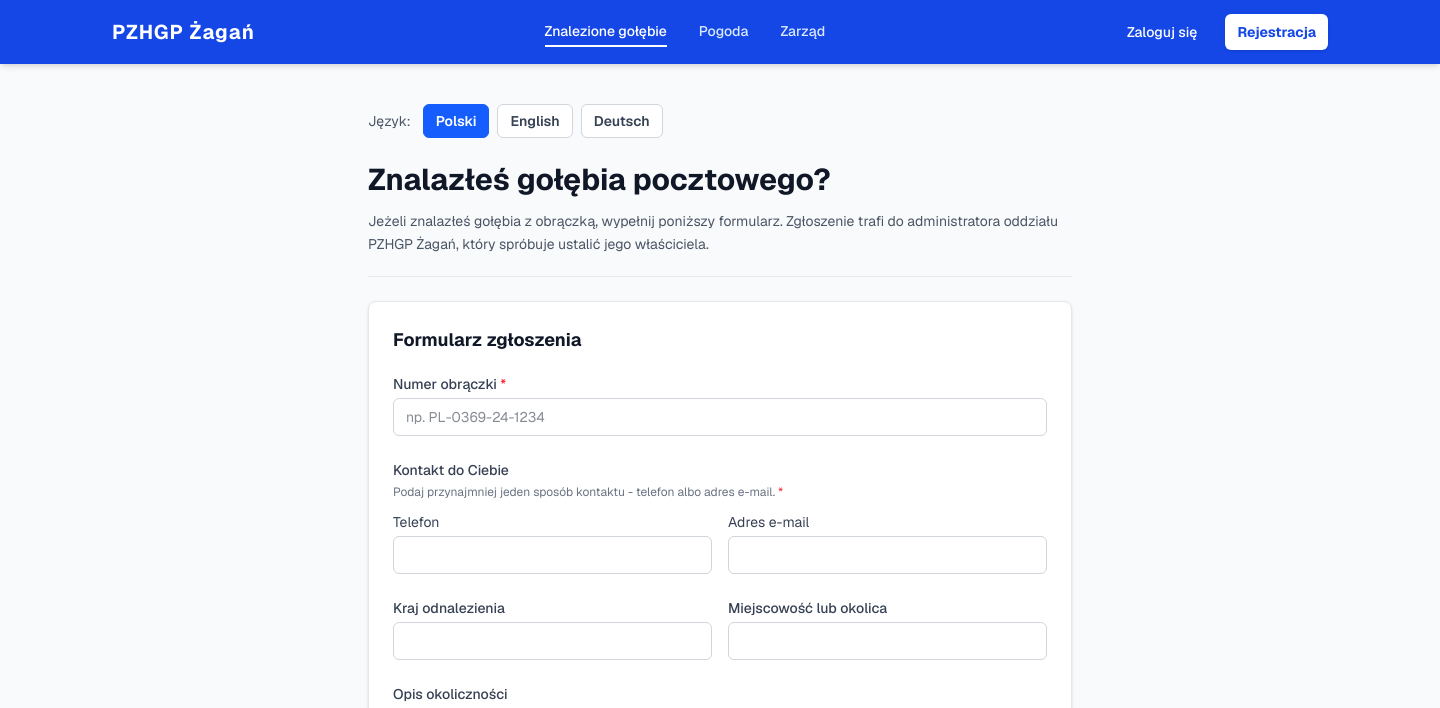
Test: Found Pigeons Page Tests › Should require at least one contact method
expect the navigation bar named "Główna nawigacja" is shown: met, box [0,0,1439,64]
expect the link "PZHGP Żagań" is shown: met, box [112,18,255,46]
Type "PL-0369-26-1234" into the field with id "ring-number".
click(720, 417); type("PL-0369-26-1234")  # box [393,398,1047,436]
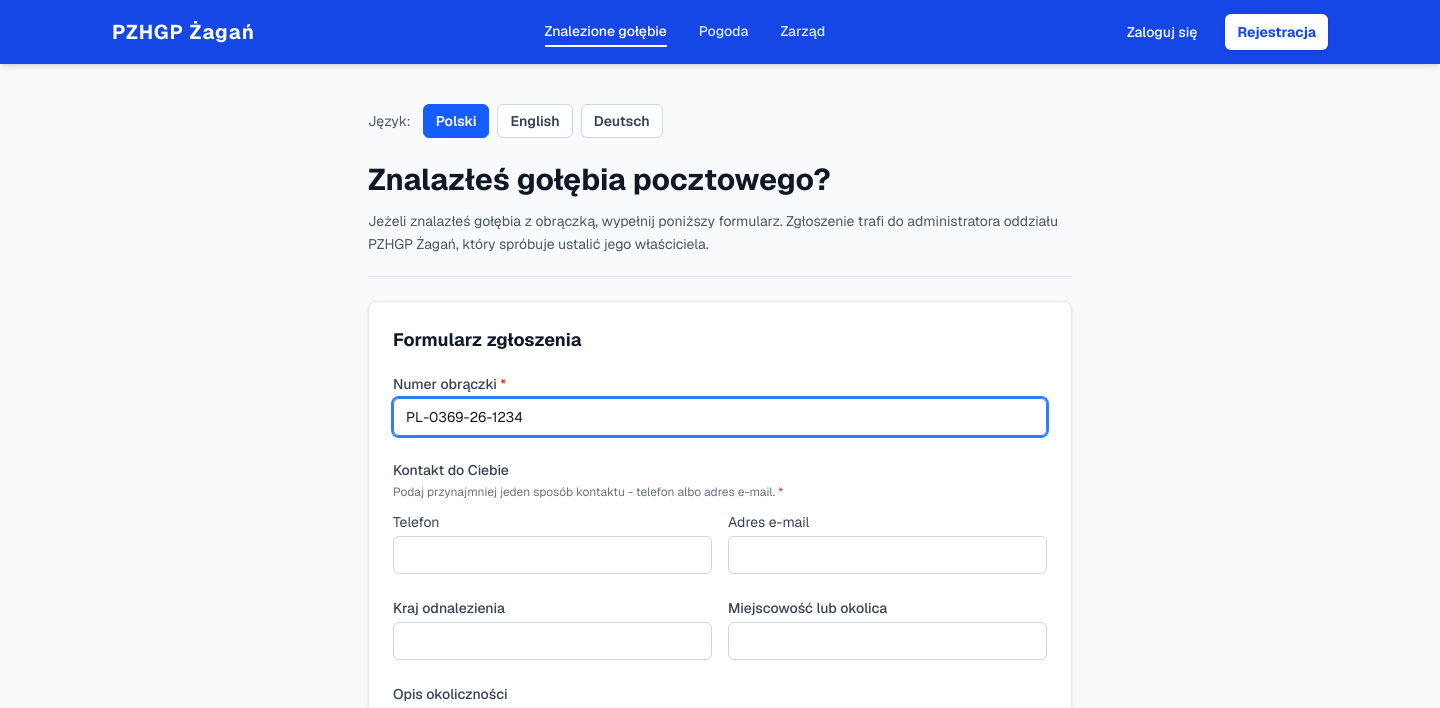
Scroll
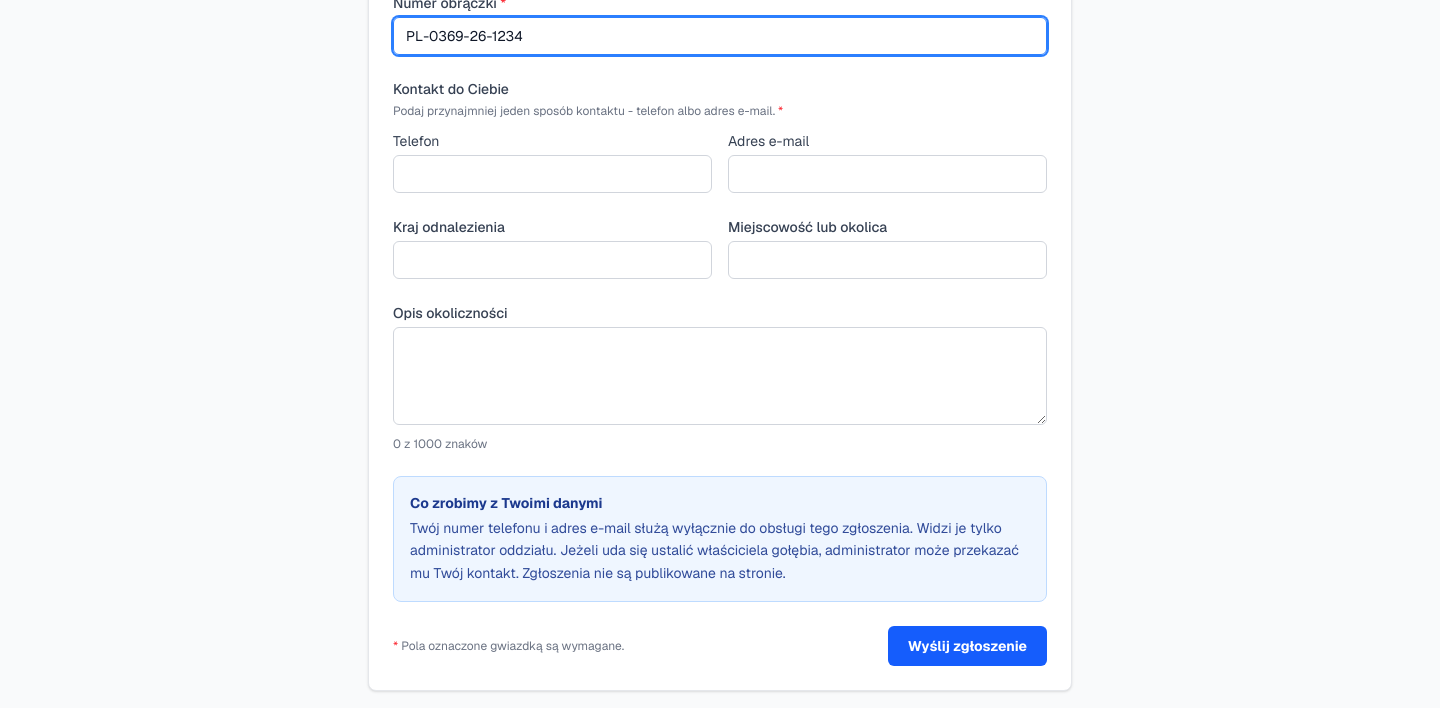
Click the button "Wyślij zgłoszenie".
click(968, 646)  # box [888,626,1047,666]
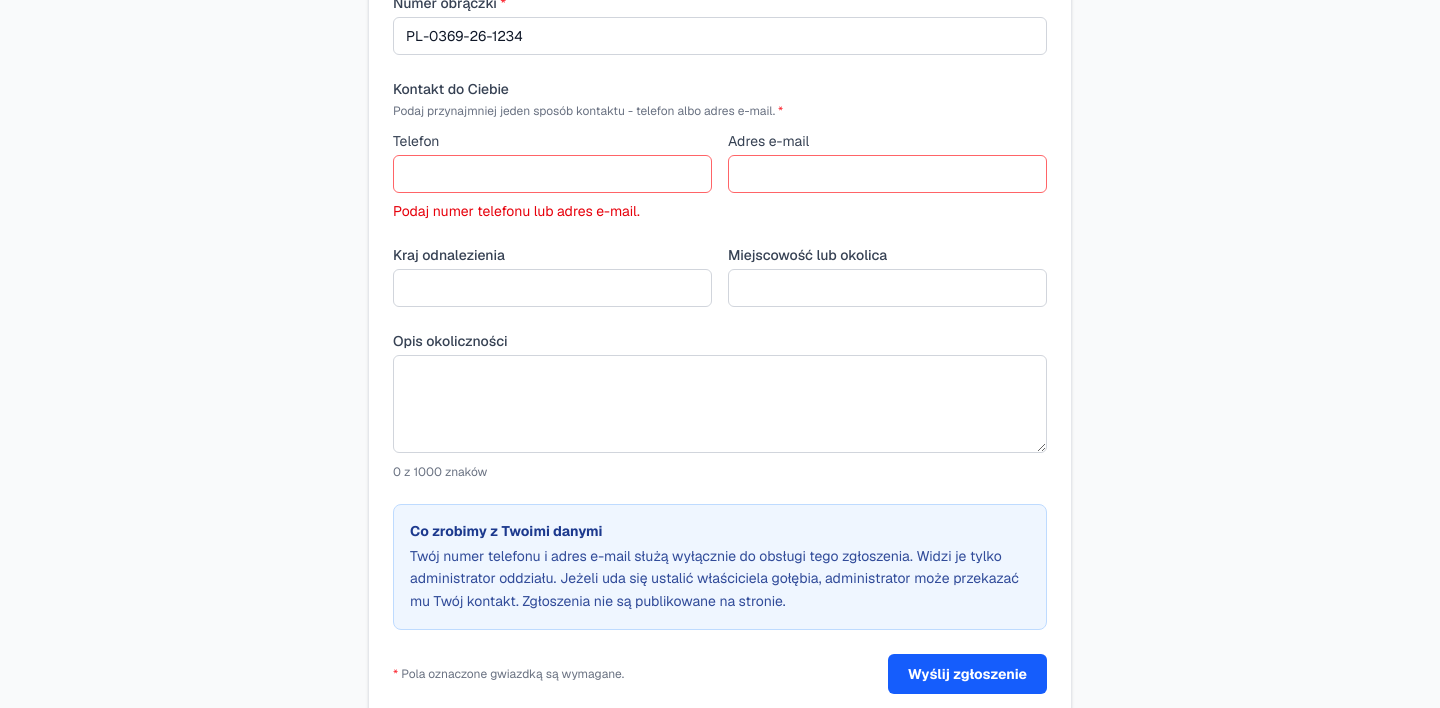
expect the text "Podaj numer telefonu lub adres e-mail." is shown: met, box [393,202,640,220]
